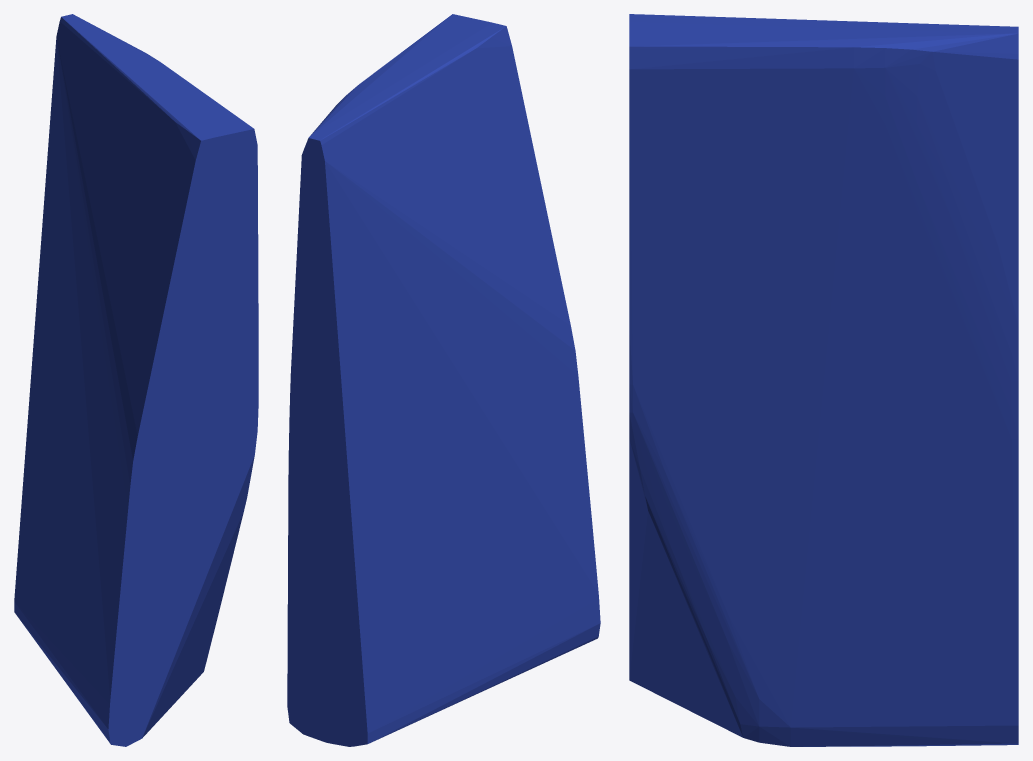
File: right-shoulder-pitch-0_part_148.obj
3 renders of one model, left to right at view 1: azimuth 30°, elevation 25°; view 2: azimuth 150°, elevation 25°; view 3: azimuth 270°, elevation 25°, orthographic. The views are drawn at different scales.
Size of the model in its own units: 0.0139 by 0.0523 by 0.0259.
